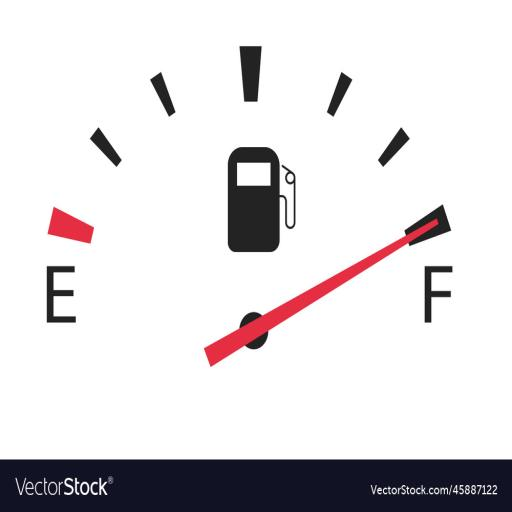empty: (45, 262, 76, 326)
fuel_icon: (227, 146, 298, 254)
full: (422, 262, 453, 322)
guage_area: (36, 43, 472, 369)
needle_center: (231, 308, 274, 356)
needle_tip: (413, 215, 440, 239)
